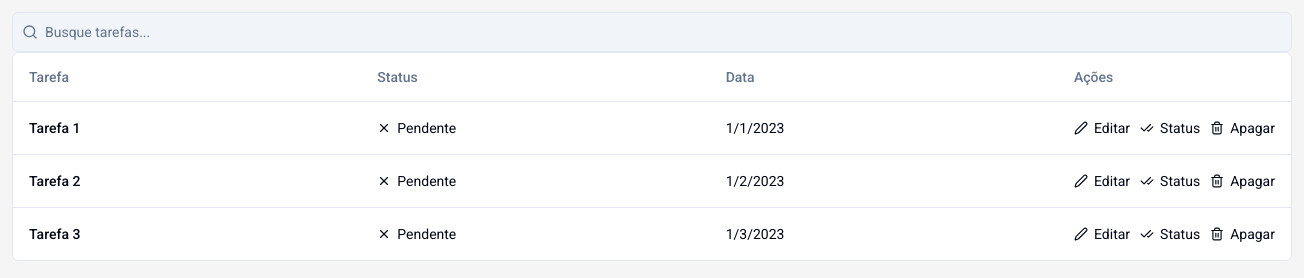
Scenario: SearchInput › Deve buscar uma tarefa
Type "Tarefa 1" into the search field with placeholder "Busque tarefas...". click: (652, 32)
box: [12, 12, 1292, 52]
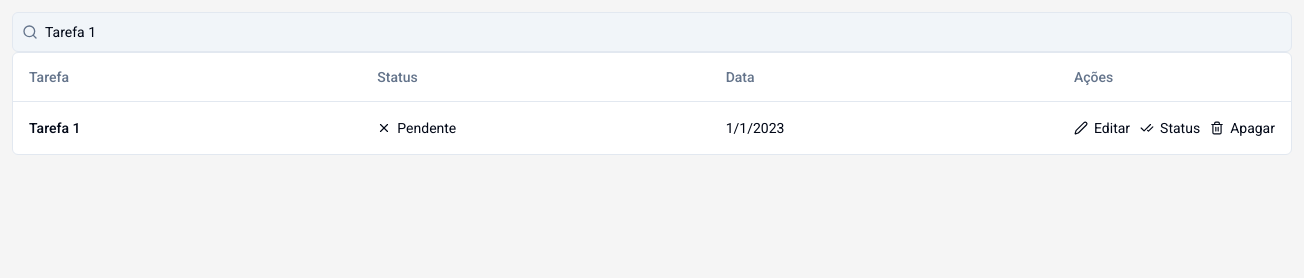
Expected: the text "Tarefa 1" is shown, [29, 120, 80, 136]
Now the text "Tarefa 2" is gone
Now the text "Tarefa 3" is gone
